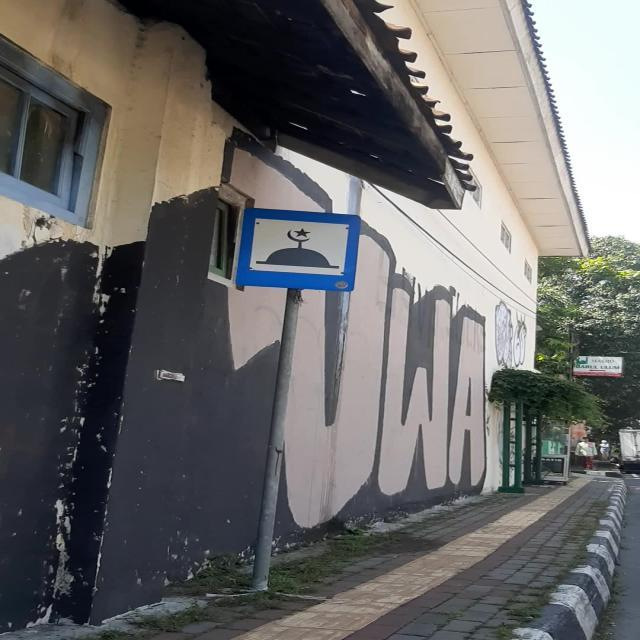Masjid: (235, 207, 362, 292)
